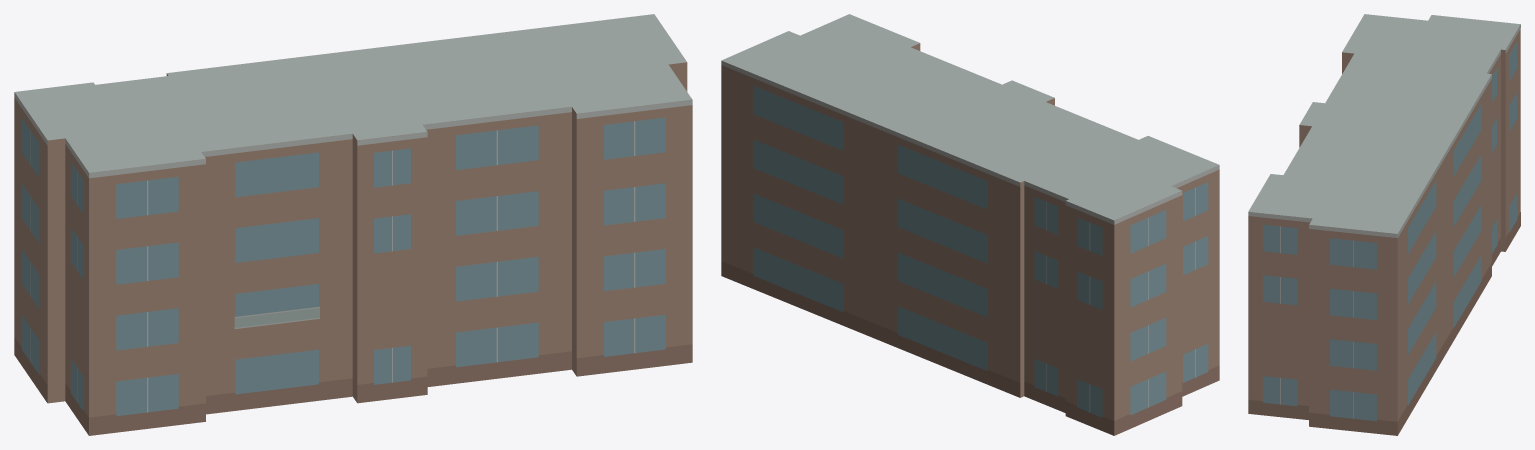
Rendered from survey-upis-32878447.glb.
The picture shows the model from 3 angles, left to right: view 1: azimuth 30°, elevation 25°; view 2: azimuth 150°, elevation 25°; view 3: azimuth 270°, elevation 25°; orthographic projection. The views are drawn at different scales.
Visible parts, largest first — view 1: survey-upis-32878447.tmp; view 2: survey-upis-32878447.tmp; view 3: survey-upis-32878447.tmp.
Part boxes in pixels (<box>): survey-upis-32878447.tmp: <box>14,14,692,435</box>; survey-upis-32878447.tmp: <box>721,14,1219,435</box>; survey-upis-32878447.tmp: <box>1248,14,1520,435</box>.
Bounding box in the file's own units: 27.81 × 11.9 × 14.57.
